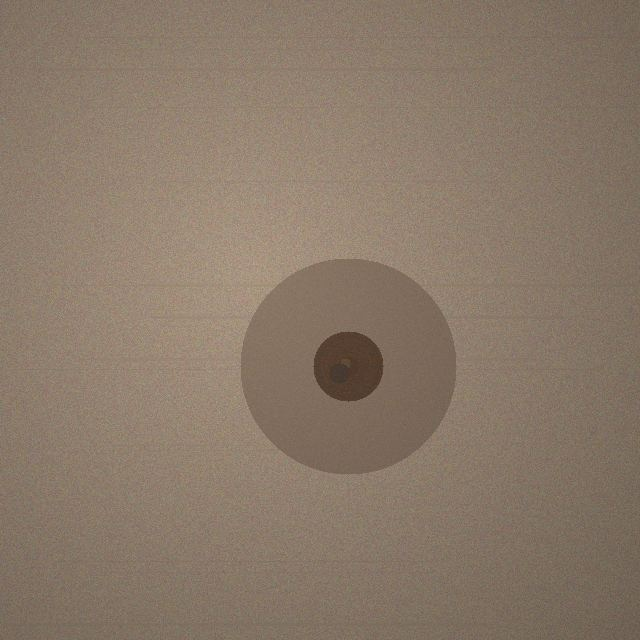cold_weld: (240, 258, 456, 474)
